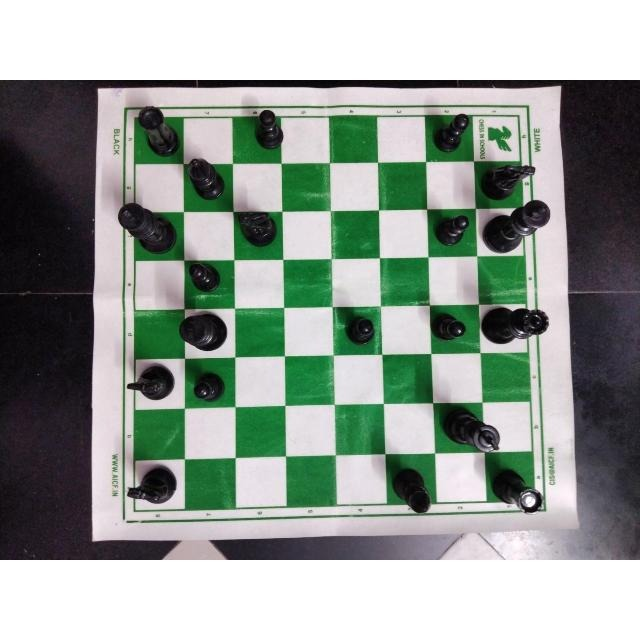black-bishop: (386, 464, 437, 520), (183, 156, 230, 203)
black-king: (481, 197, 553, 258), (113, 201, 180, 255), (434, 404, 503, 456), (176, 311, 230, 351)
black-knight: (476, 161, 542, 200), (125, 461, 181, 505), (124, 359, 180, 398), (233, 209, 281, 249)
black-pawn: (426, 110, 474, 157), (426, 207, 471, 250), (429, 308, 471, 350), (250, 104, 286, 152), (188, 367, 228, 407), (183, 258, 225, 295), (339, 314, 381, 350)
black-queen: (482, 303, 554, 351)
black-rook: (489, 467, 547, 519), (133, 100, 181, 156)
